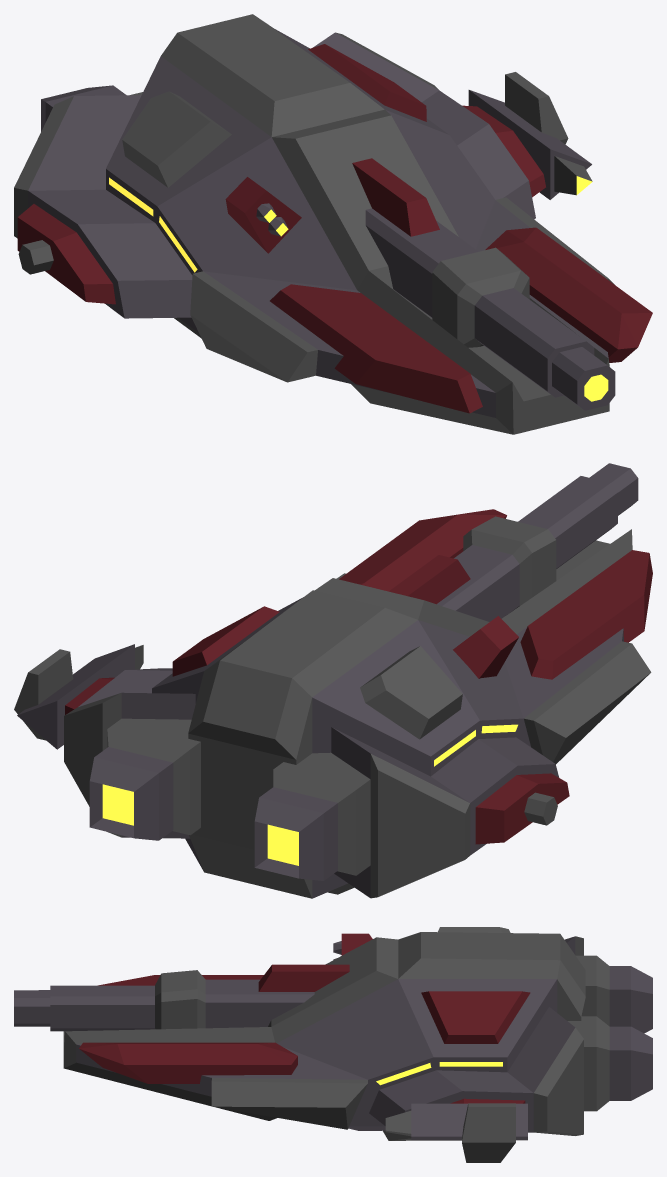
Rendered from 666_ship_light_dirk.glb.
3 views of the same model, one above another, from view 1: azimuth 30°, elevation 25°; view 2: azimuth 150°, elevation 25°; view 3: azimuth 270°, elevation 25° (orthographic). The views are drawn at different scales.
Visible parts, largest first — view 1: 06_ship_light_dirk; view 2: 06_ship_light_dirk; view 3: 06_ship_light_dirk.
Part boxes in pixels (x1,y1,x2,y2): 06_ship_light_dirk: [14, 14, 652, 434]; 06_ship_light_dirk: [14, 463, 652, 898]; 06_ship_light_dirk: [14, 927, 652, 1162].
Size of the model in its own units: 0.6882 by 0.3013 by 0.9967.
